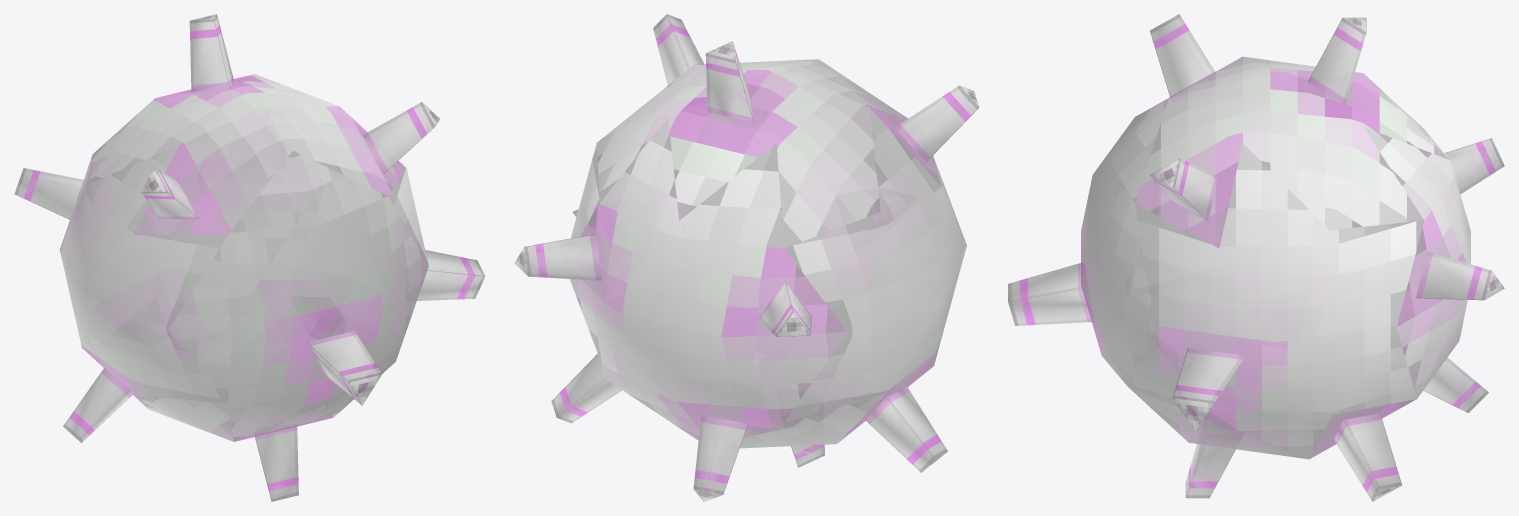
3 views of the same model, side by side, from view 1: azimuth 30°, elevation 25°; view 2: azimuth 150°, elevation 25°; view 3: azimuth 270°, elevation 25° (orthographic). The views are drawn at different scales.
Visible parts, largest first — view 1: layer_00_oe0451M_0; view 2: layer_00_oe0451M_0; view 3: layer_00_oe0451M_0.
Boxes of the visible parts, x1=… form: layer_00_oe0451M_0: x1=14, y1=14, x2=485, y2=501; layer_00_oe0451M_0: x1=514, y1=14, x2=979, y2=501; layer_00_oe0451M_0: x1=1008, y1=14, x2=1504, y2=501.
Bounding box in the file's own units: 5.44 × 6.05 × 5.67.
Materials: 1 (1 with a texture image).
